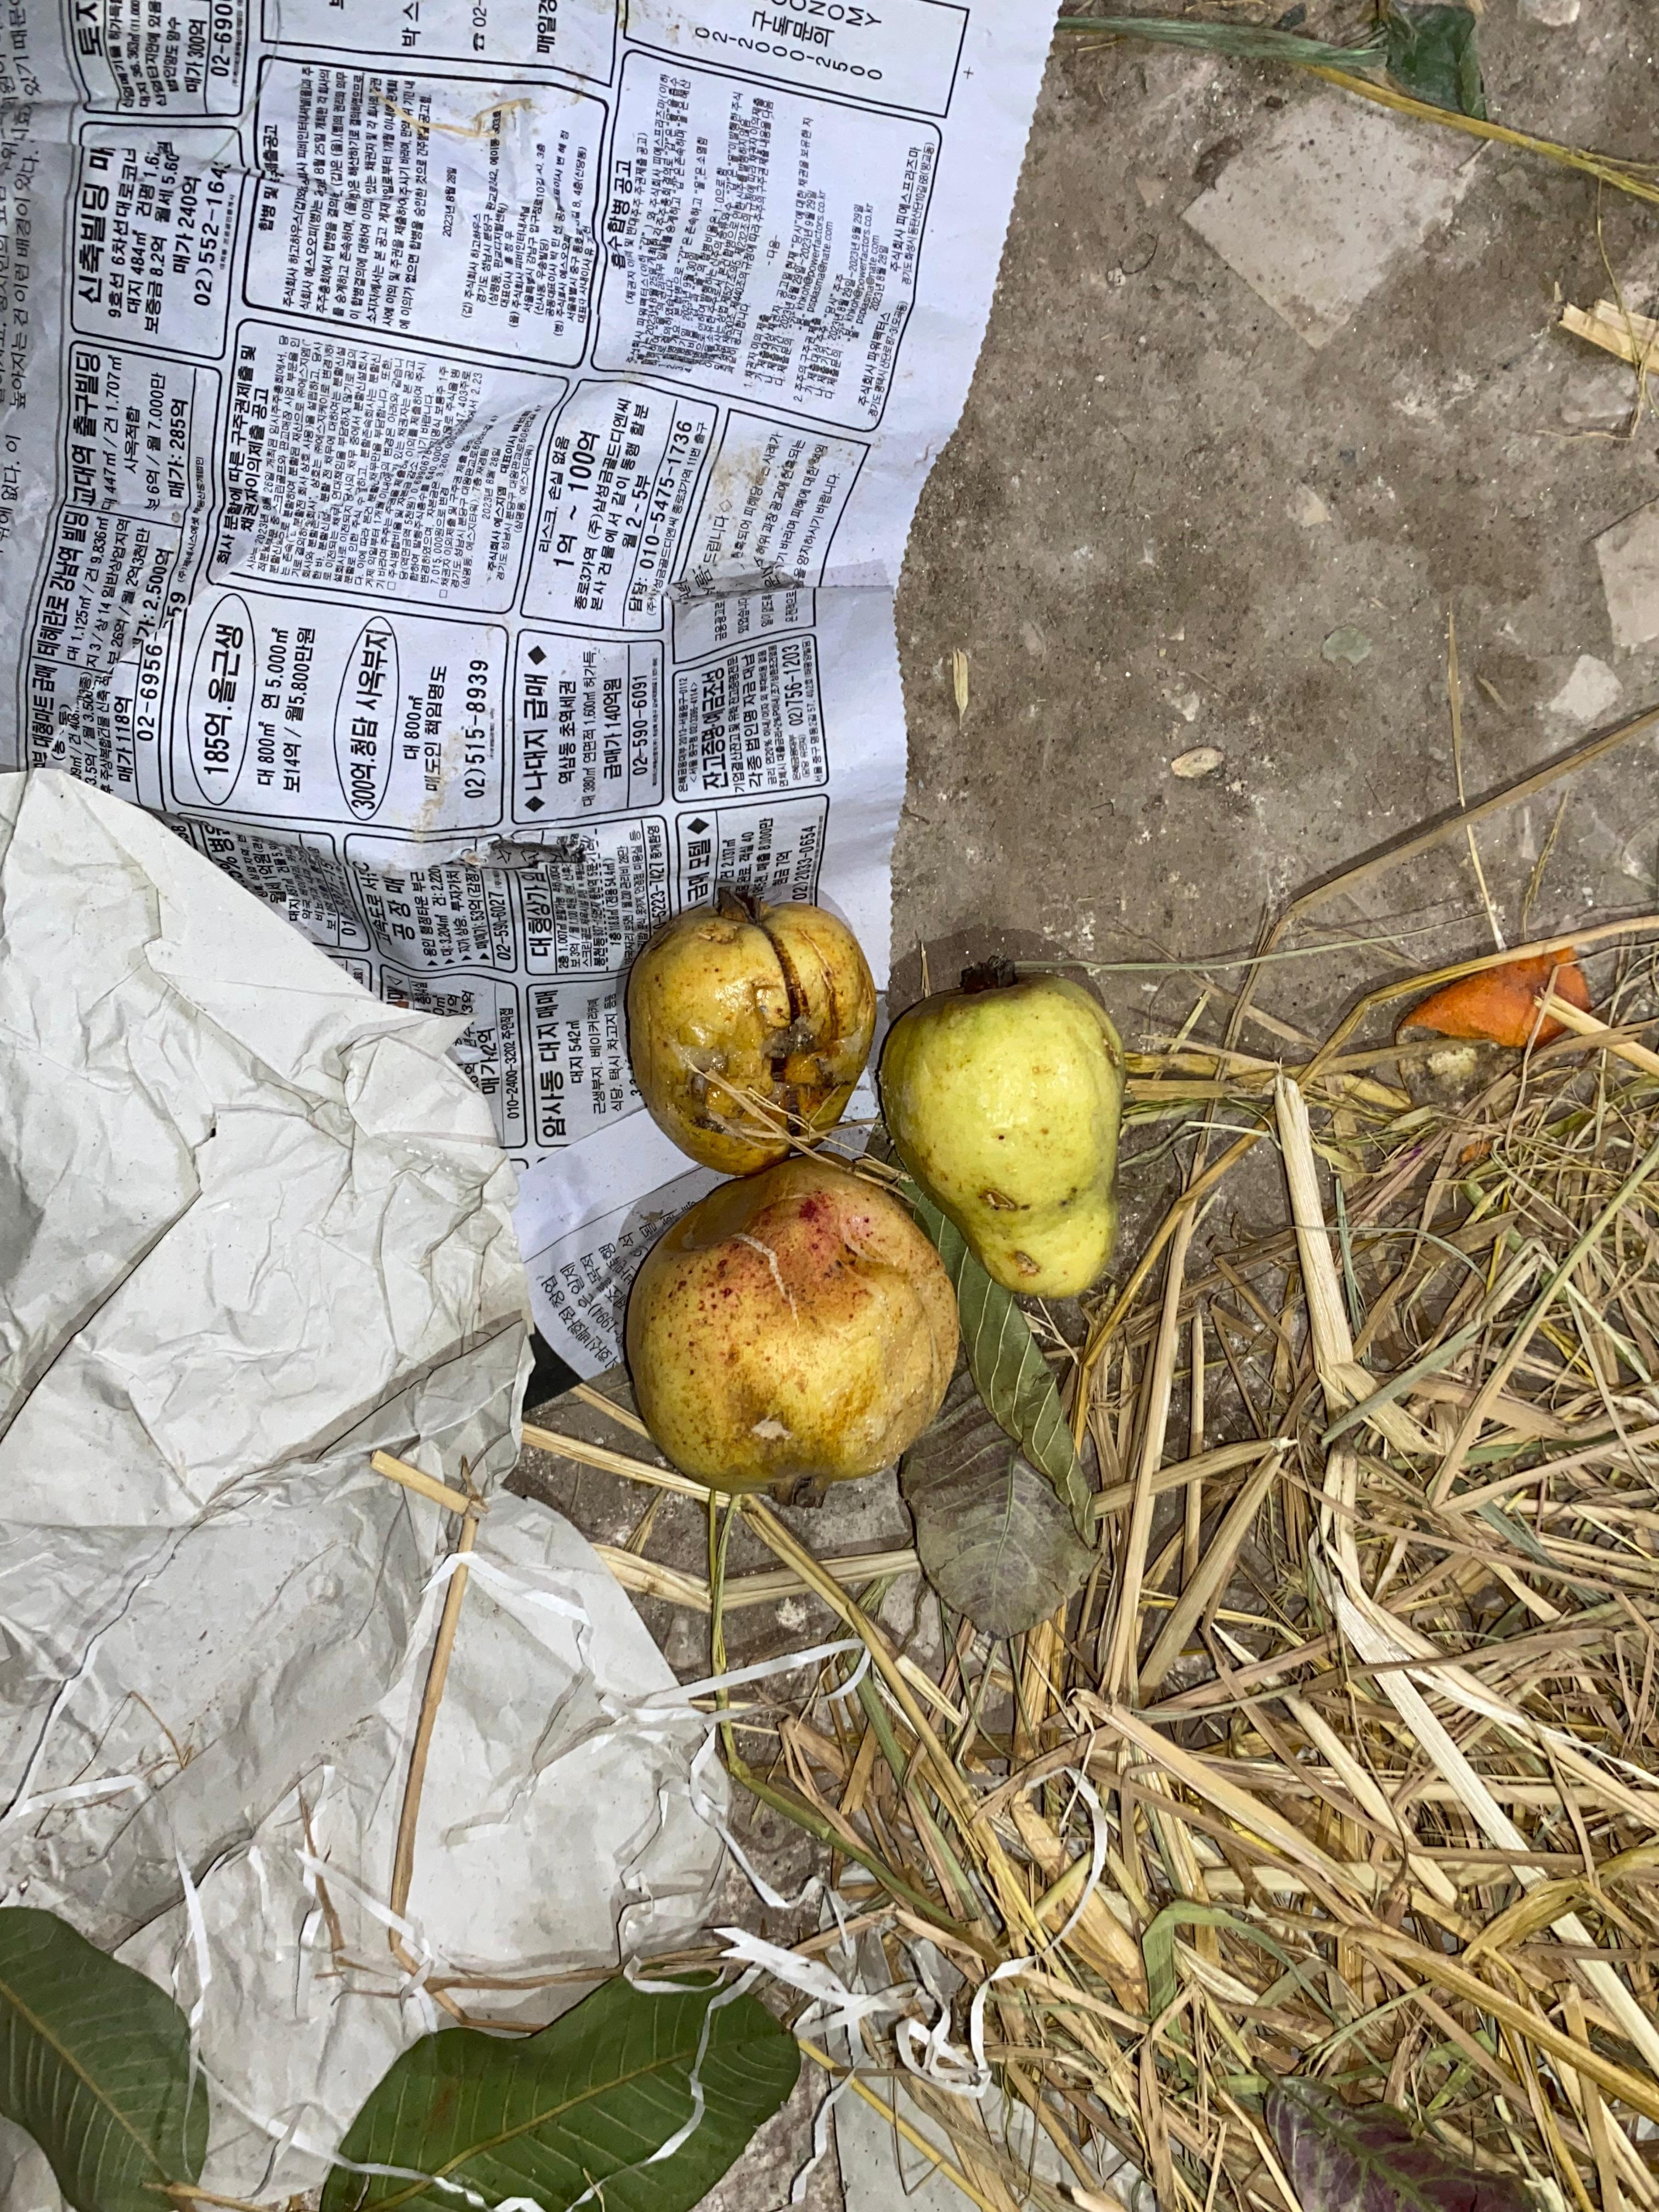organic: (615, 1144, 957, 1545), (903, 945, 1152, 1308), (618, 889, 878, 1167)
